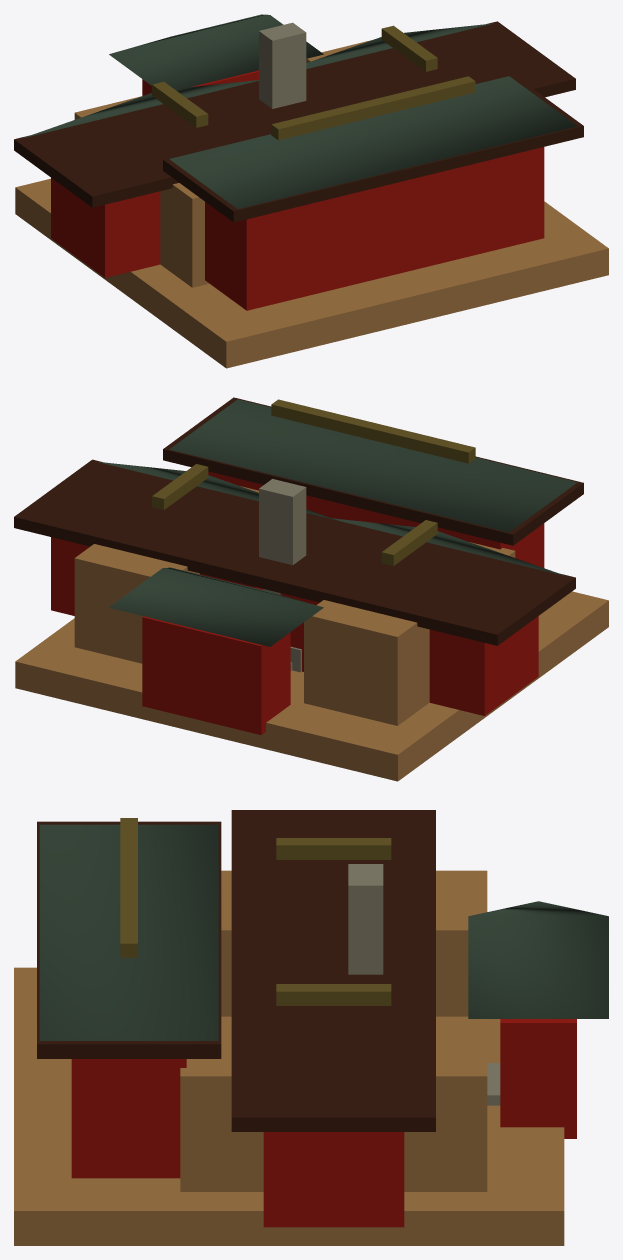
The model's file is Taixue.fbx.
3 views of the same model, one above another, from view 1: azimuth 30°, elevation 25°; view 2: azimuth 150°, elevation 25°; view 3: azimuth 270°, elevation 25° (orthographic). The views are drawn at different scales.
Visible parts, largest first — view 1: lecture_north_body, campus, lecture_roof, study_east_eave, study_west_eave, study_east_body, south_gate_roof, lecture_north_eave, east_study, stele, lecture_north_ridge, study_east_roof (+4 smaller); view 2: campus, lecture_roof, study_east_eave, study_west_eave, south_gate, east_study, south_gate_roof, study_east_body, west_study, lecture_north_eave, stele, lecture_north_ridge (+6 smaller); view 3: campus, lecture_roof, study_west_eave, study_east_eave, west_study, south_gate_roof, study_west_body, lecture_north_body, south_gate, east_study, lecture_north_eave, stele (+4 smaller).
Part boxes in pixels (<box>): lecture_north_body: <box>205,147,544,310</box>; campus: <box>15,178,608,368</box>; lecture_roof: <box>169,76,577,209</box>; study_east_eave: <box>14,79,316,207</box>; study_west_eave: <box>252,21,575,112</box>; study_east_body: <box>51,178,160,277</box>; south_gate_roof: <box>109,14,323,88</box>; lecture_north_eave: <box>163,74,583,222</box>; east_study: <box>74,96,208,287</box>; stele: <box>259,22,306,108</box>; lecture_north_ridge: <box>271,76,475,140</box>; study_east_roof: <box>22,80,258,138</box>; campus: <box>15,591,608,781</box>; lecture_roof: <box>169,399,577,532</box>; study_east_eave: <box>243,522,575,645</box>; study_west_eave: <box>14,459,344,588</box>; south_gate: <box>142,616,290,734</box>; east_study: <box>304,542,515,725</box>; south_gate_roof: <box>109,567,323,646</box>; study_east_body: <box>280,593,538,715</box>; west_study: <box>74,486,258,663</box>; lecture_north_eave: <box>163,397,583,545</box>; stele: <box>259,479,306,594</box>; lecture_north_ridge: <box>271,399,475,463</box>; campus: <box>14,967,564,1245</box>; lecture_roof: <box>39,824,218,1040</box>; study_west_eave: <box>231,956,435,1131</box>; study_east_eave: <box>231,810,435,955</box>; west_study: <box>180,1016,487,1191</box>; south_gate_roof: <box>468,901,608,1018</box>; study_west_body: <box>263,1132,404,1227</box>; lecture_north_body: <box>71,1059,186,1178</box>; south_gate: <box>500,1019,576,1138</box>; east_study: <box>221,870,487,1016</box>; lecture_north_eave: <box>37,821,221,1058</box>; stele: <box>348,864,383,974</box>.
Size of the model in its own units: 114 by 43 by 93.
